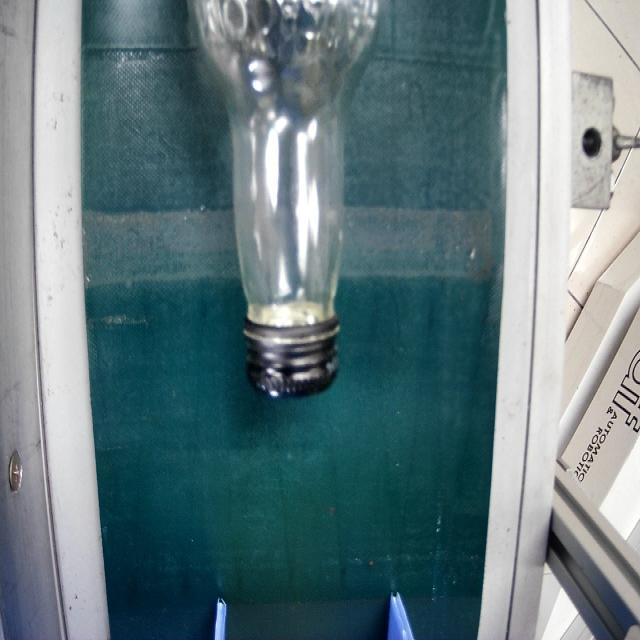Glass: (190, 0, 390, 391)
